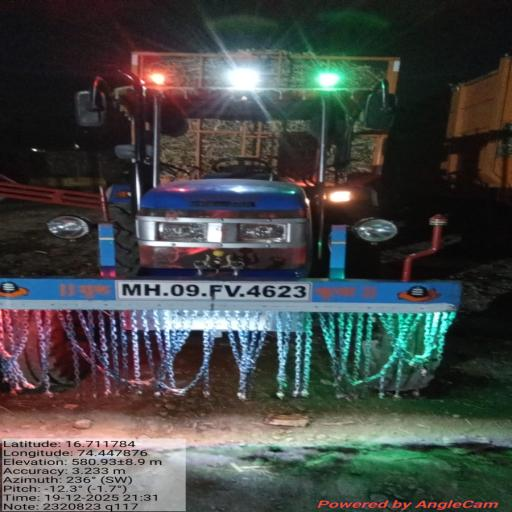number_plate: (114, 276, 328, 318)
